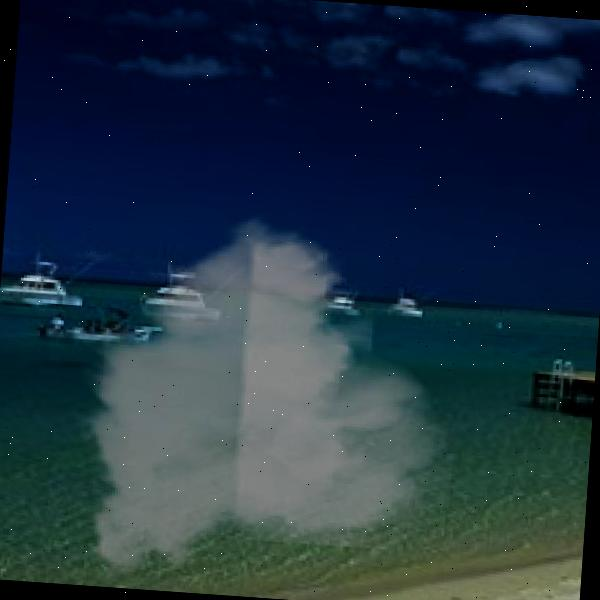smoke: (63, 193, 469, 600)
